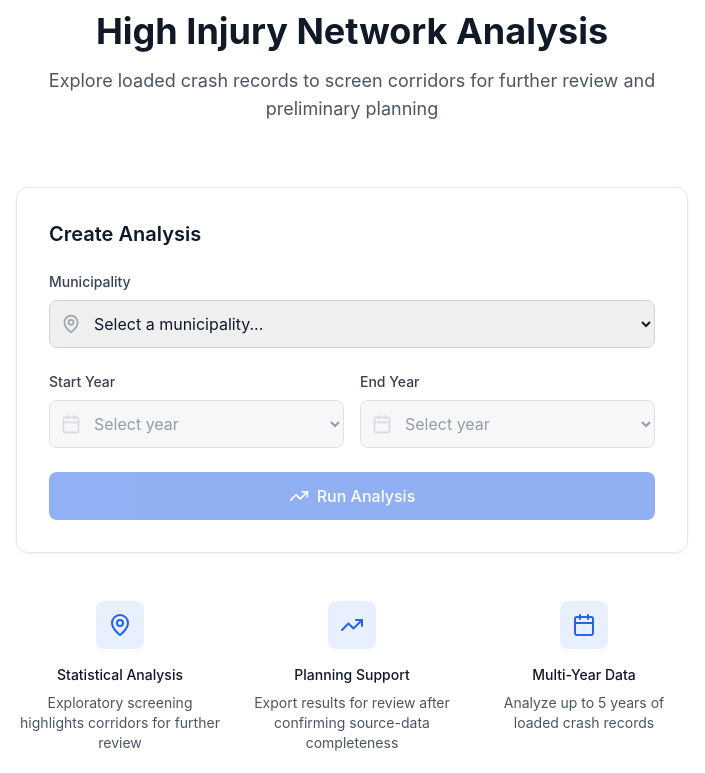
Scenario: disables analysis when the municipality has no usable crash data
Select "Alpha Township — Mercer County" in the dropdown labelled "Municipality" at (352,324), box left=49, top=300, right=655, bottom=348
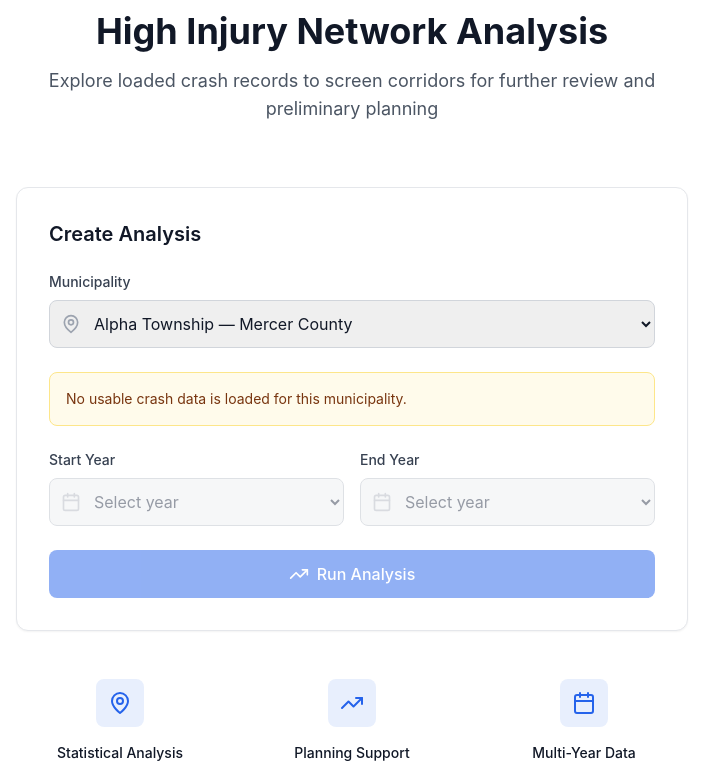
Expected: the button "Run Analysis" is disabled, left=49, top=550, right=655, bottom=598
Result: the text "No usable crash data is loaded for this municipality." is shown at left=49, top=372, right=655, bottom=426
